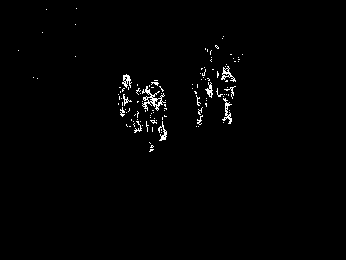person: (141, 80, 169, 152), (215, 66, 239, 126), (116, 75, 141, 132), (192, 68, 212, 127)
